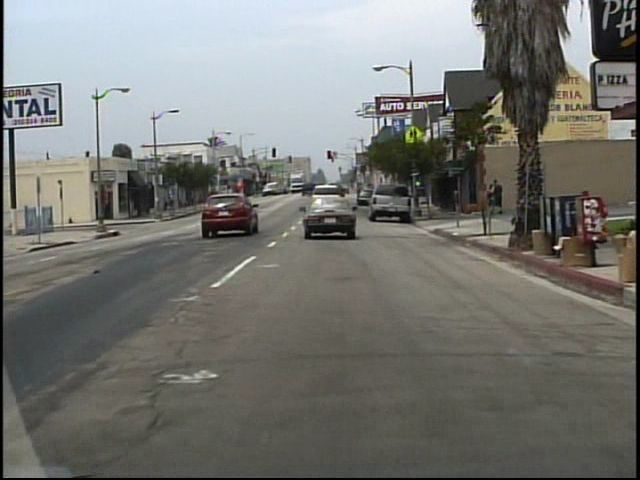person: (493, 178, 504, 216), (485, 183, 496, 215)
